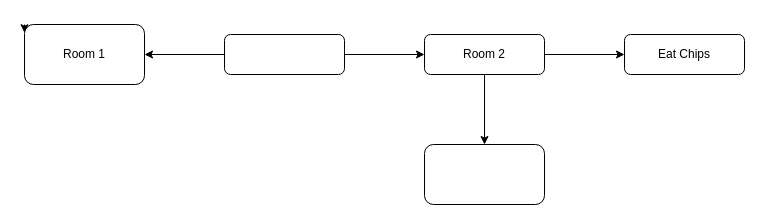
Image size: 763x222. Some labels were removed from this diagram. Each missing label, with the centre of its shape:
Don't eat chips: the point at 484,174
Escape Room start: the point at 284,54
